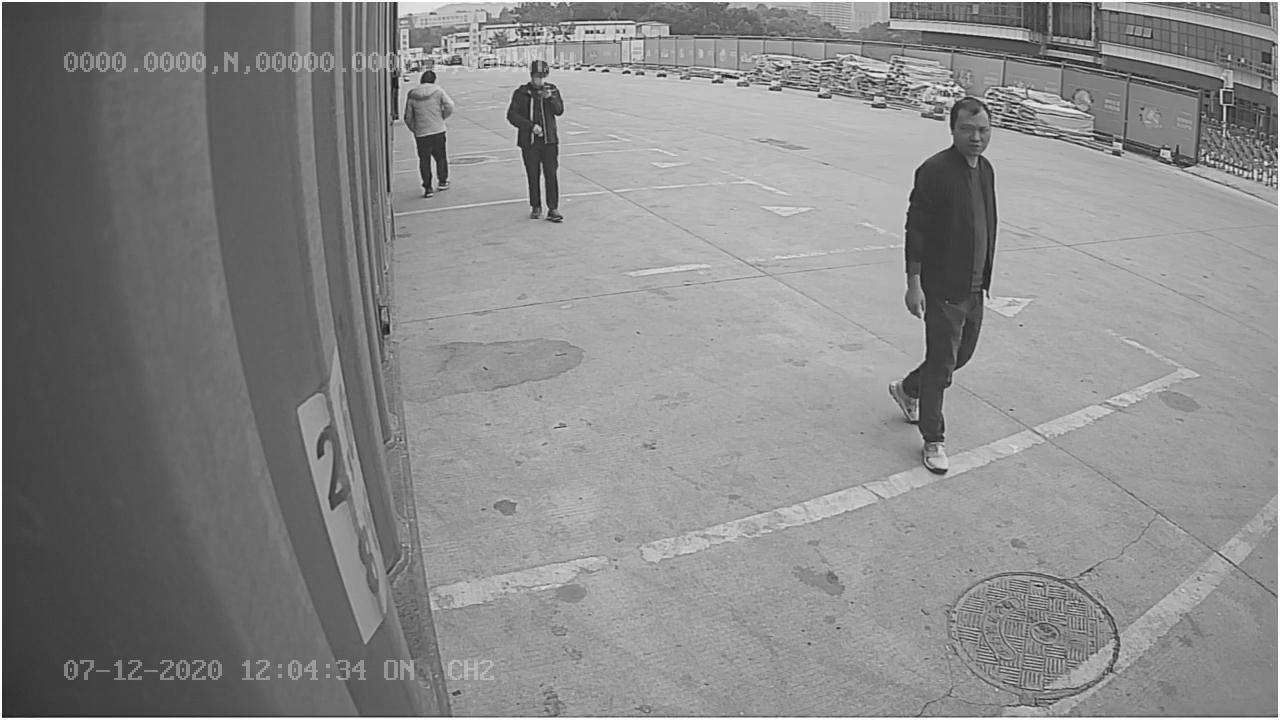person: (882, 90, 1004, 482)
